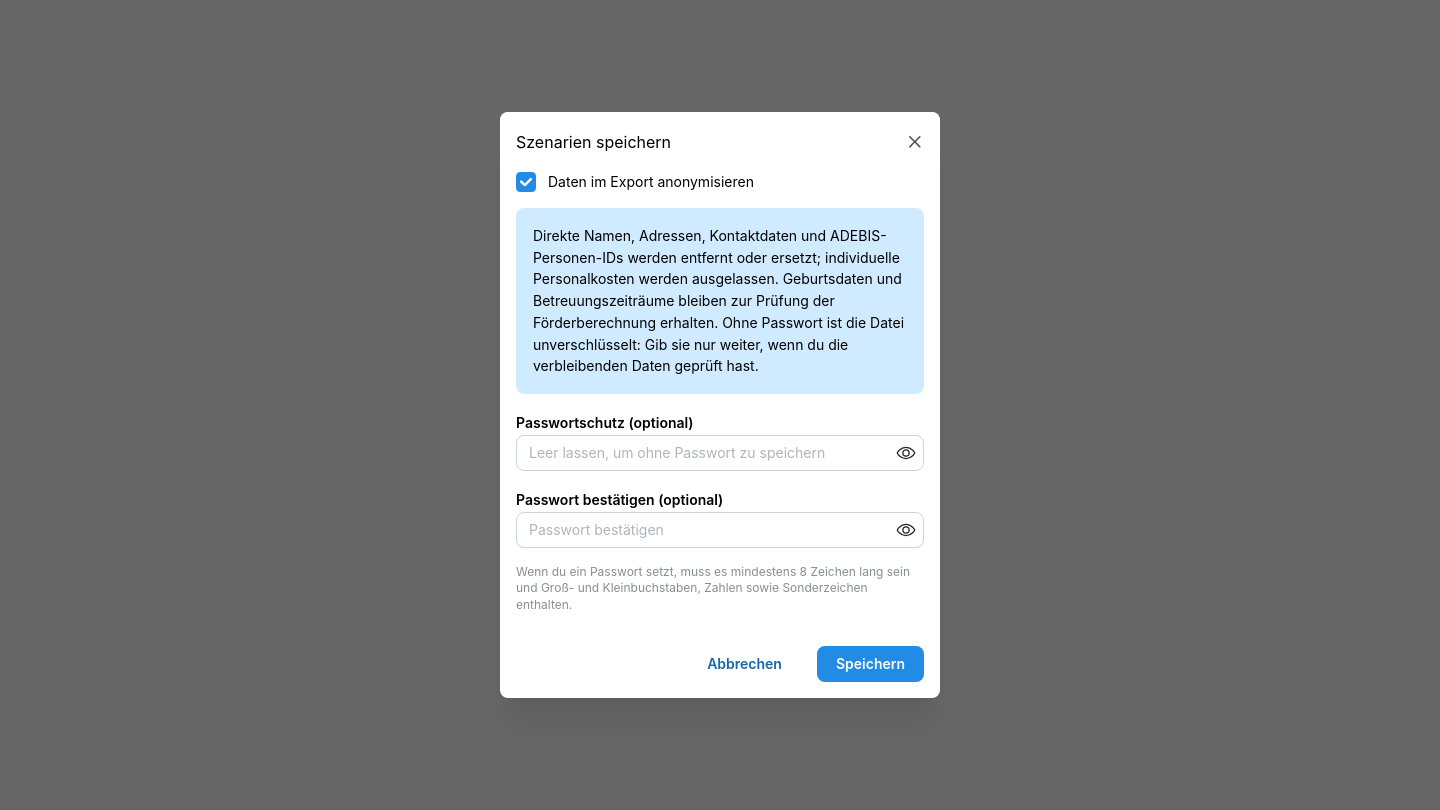
ScenarioSaveDialog anonymized export › requires an explicit opt-out to save the source data unchanged
Later steps or results of the test are not shown.
What coordinates should you click on to do the following:
click the checkbox labelled "Daten im Export anonymisieren"
I would click on:
 (526, 182)
Its box is [516,172,536,192].
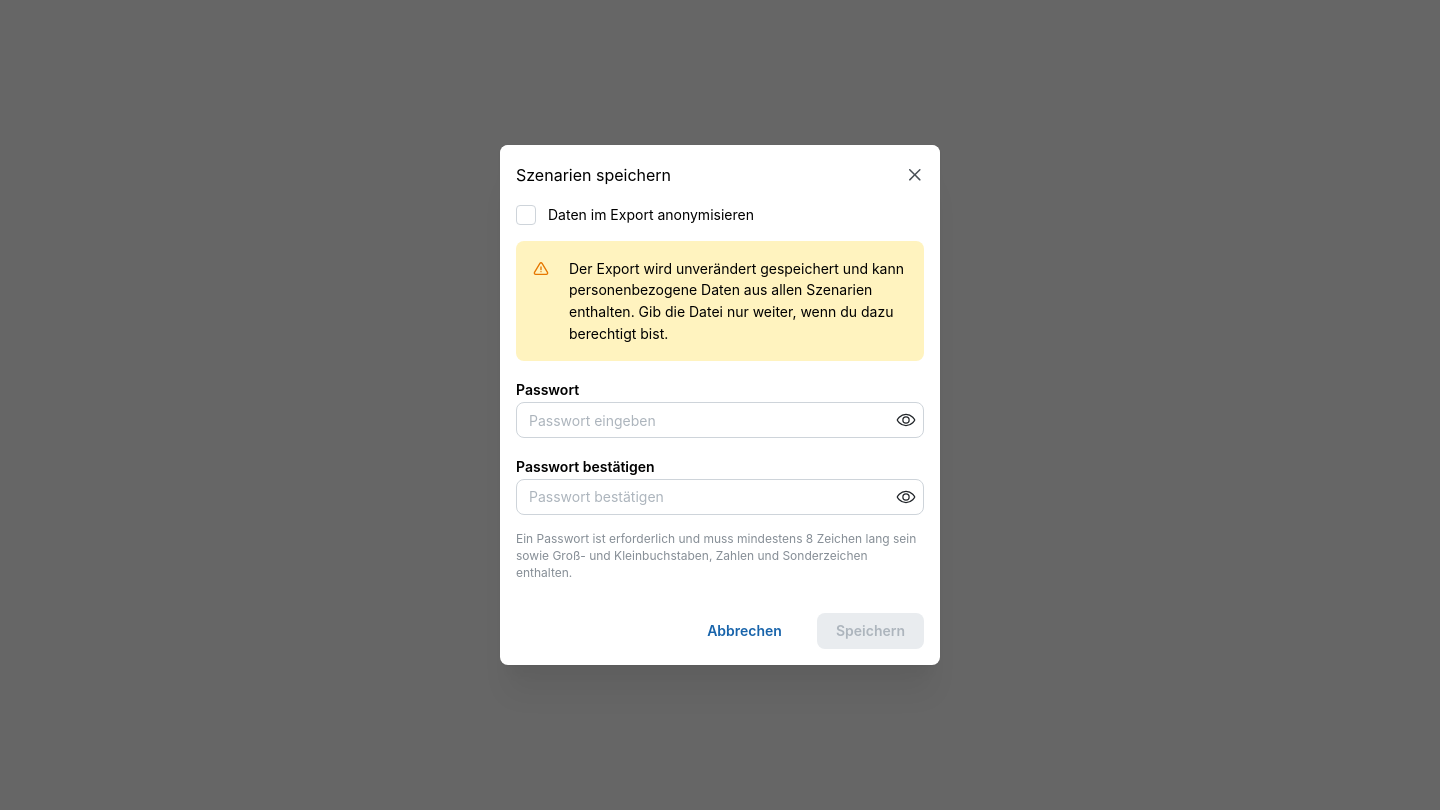
expect the checkbox labelled "Daten im Export anonymisieren" is not checked: met, box [516,205,536,225]
expect the text "kann personenbezogene Daten aus allen Szenarien enthalten" is shown: met, box [569,260,904,342]
